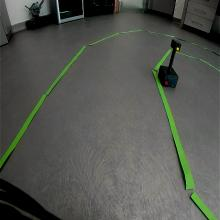green: (170, 38, 182, 52)
